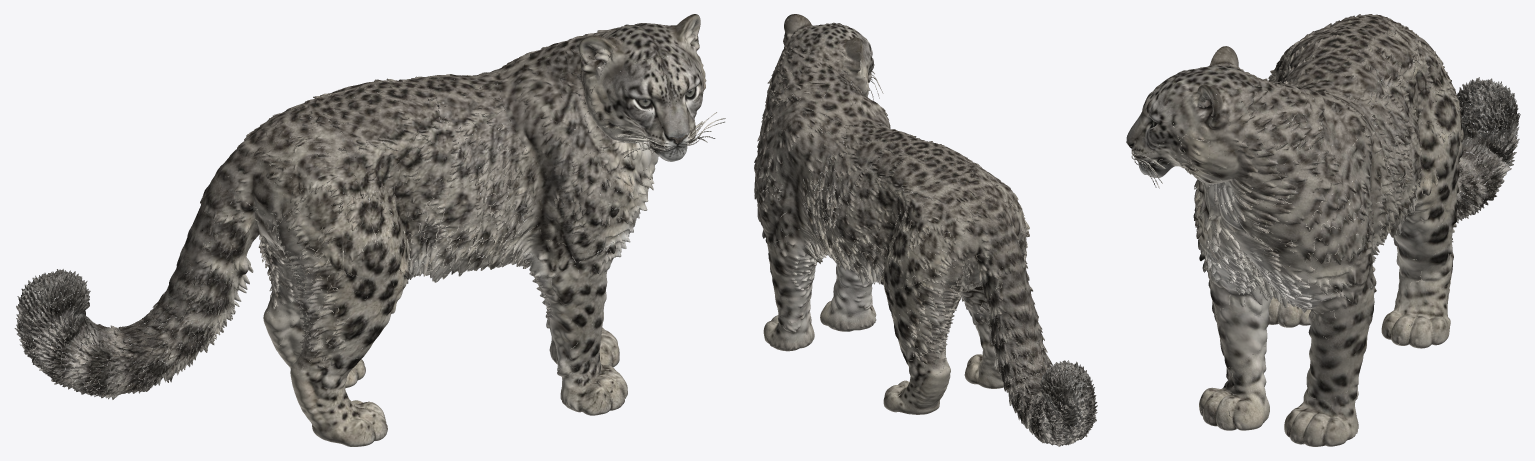
The model's file is wild_life_snow_leopard_optimized.glb.
3 views of the same model, side by side, from view 1: azimuth 30°, elevation 25°; view 2: azimuth 150°, elevation 25°; view 3: azimuth 270°, elevation 25° (orthographic). The views are drawn at different scales.
Bounding box in the file's own units: 1.9 × 1.25 × 1.2.
Materials: 1 (1 with a texture image).
